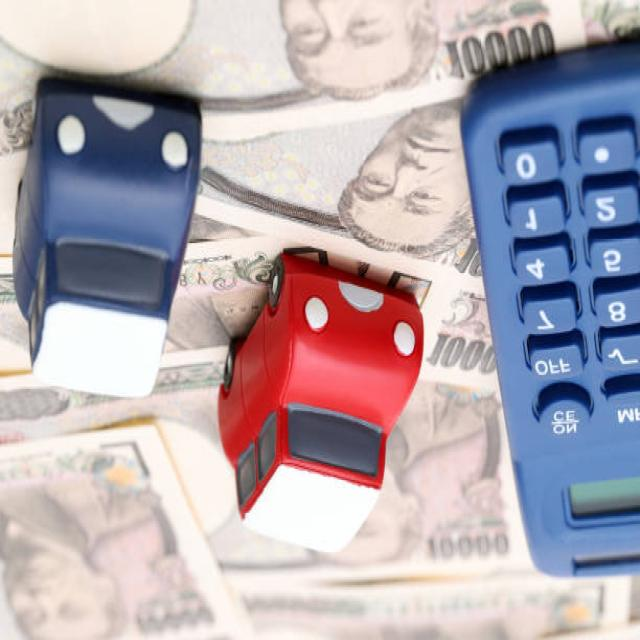Car: (216, 251, 424, 555), (11, 78, 202, 400)
